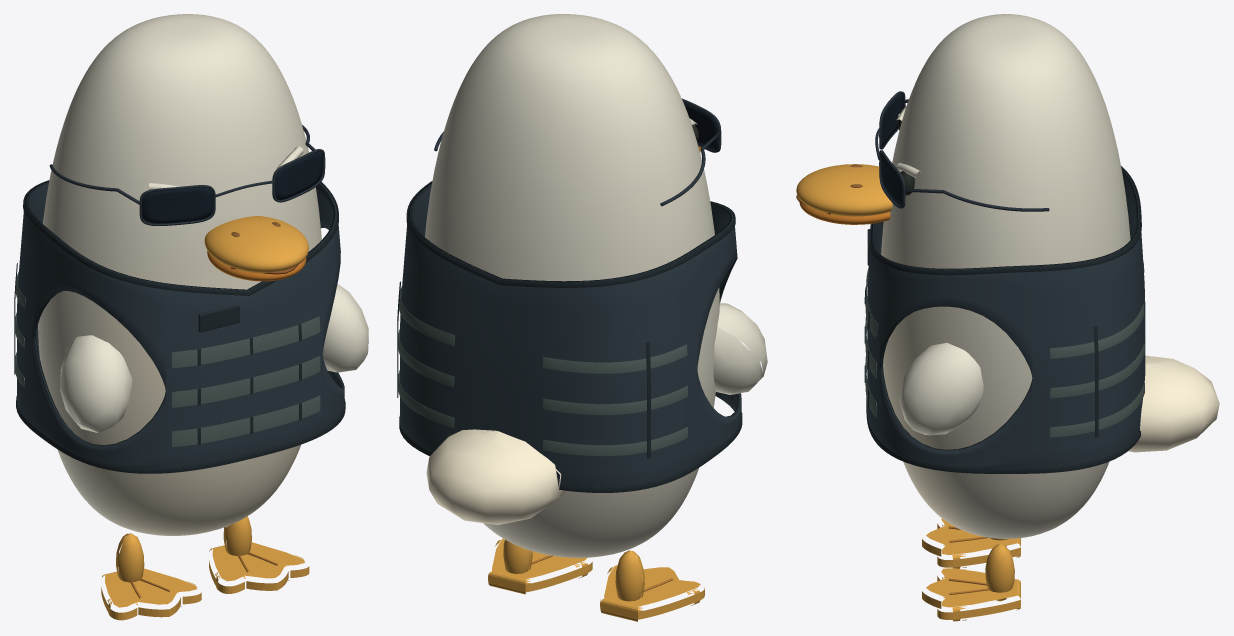
File: goose-face-sunglasses-character.glb
3 renders of one model, left to right at view 1: azimuth 30°, elevation 25°; view 2: azimuth 150°, elevation 25°; view 3: azimuth 270°, elevation 25°, orthographic. The views are drawn at different scales.
Visible parts, largest first — view 1: goose_torso_mesh, goose_vest_refined_mesh, goose_leftArm_mesh, goose_face_sunglasses_mesh, goose_beak_mesh, goose_leftFoot_mesh, goose_rightFoot_mesh, goose_rightArm_mesh; view 2: goose_torso_mesh, goose_vest_refined_mesh, goose_tail_mesh, goose_leftFoot_mesh, goose_leftArm_mesh, goose_rightFoot_mesh, goose_face_sunglasses_mesh; view 3: goose_torso_mesh, goose_vest_refined_mesh, goose_rightArm_mesh, goose_tail_mesh, goose_beak_mesh, goose_rightFoot_mesh, goose_face_sunglasses_mesh, goose_leftFoot_mesh.
Boxes of the visible parts, x1,y1,x2,y2 form: goose_torso_mesh: [38, 14, 321, 535]; goose_vest_refined_mesh: [14, 180, 345, 473]; goose_leftArm_mesh: [60, 335, 132, 432]; goose_face_sunglasses_mesh: [49, 125, 325, 225]; goose_beak_mesh: [204, 216, 308, 281]; goose_leftFoot_mesh: [101, 533, 201, 620]; goose_rightFoot_mesh: [209, 516, 309, 593]; goose_rightArm_mesh: [322, 284, 368, 372]; goose_torso_mesh: [425, 14, 719, 557]; goose_vest_refined_mesh: [397, 181, 742, 492]; goose_tail_mesh: [426, 429, 565, 524]; goose_leftFoot_mesh: [600, 550, 704, 621]; goose_leftArm_mesh: [713, 303, 767, 394]; goose_rightFoot_mesh: [488, 538, 592, 594]; goose_face_sunglasses_mesh: [434, 98, 721, 206]; goose_torso_mesh: [881, 14, 1130, 538]; goose_vest_refined_mesh: [864, 166, 1145, 473]; goose_rightArm_mesh: [899, 343, 983, 435]; goose_tail_mesh: [1128, 355, 1219, 452]; goose_beak_mesh: [796, 164, 892, 224]; goose_rightFoot_mesh: [922, 544, 1020, 621]; goose_face_sunglasses_mesh: [875, 91, 1049, 211]; goose_leftFoot_mesh: [922, 518, 1020, 568].
Bounding box in the file's own units: 1.1 × 1.94 × 1.37.
